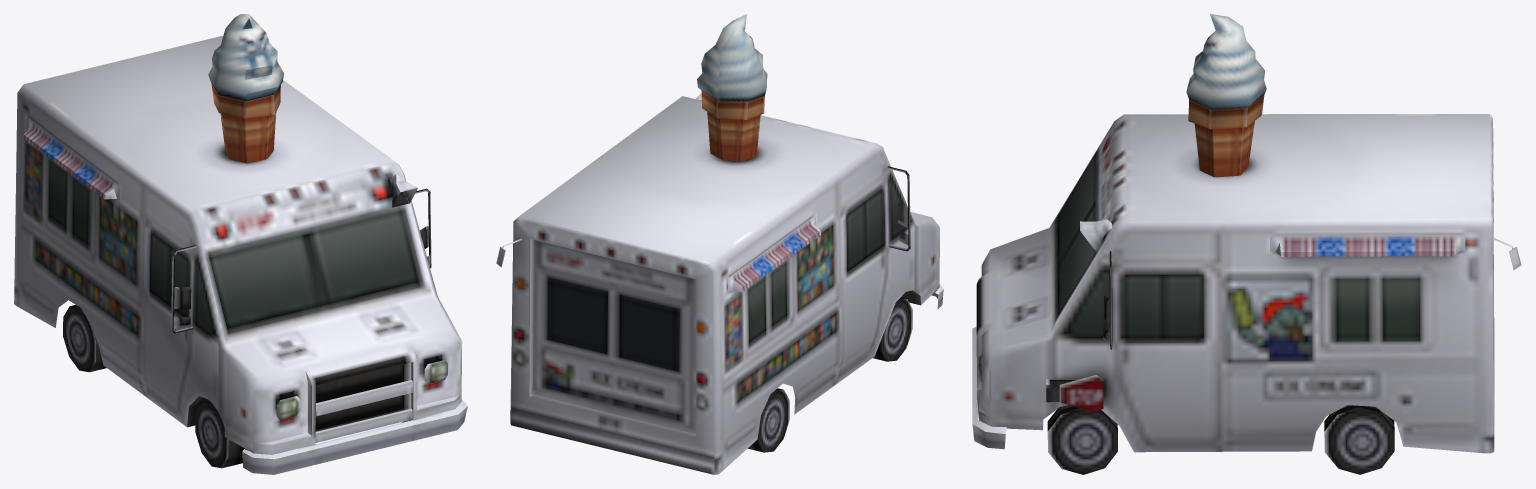
File: IceCream_Truck.fbx
3 renders of one model, left to right at view 1: azimuth 30°, elevation 25°; view 2: azimuth 150°, elevation 25°; view 3: azimuth 270°, elevation 25°, orthographic. The views are drawn at different scales.
Visible parts, largest first — view 1: IceCream_Truck; view 2: IceCream_Truck; view 3: IceCream_Truck.
Boxes of the visible parts, x1,y1,x2,y2 form: IceCream_Truck: [14, 14, 467, 474]; IceCream_Truck: [496, 14, 943, 474]; IceCream_Truck: [972, 14, 1521, 474].
Size of the model in its own units: 1.24 by 1.73 by 2.13.
1 material, 1 textured.
